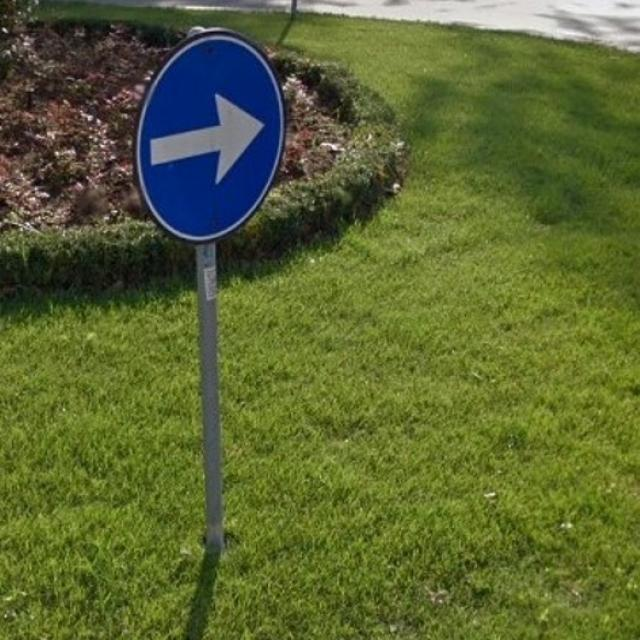Turn Right: (136, 32, 280, 253)
